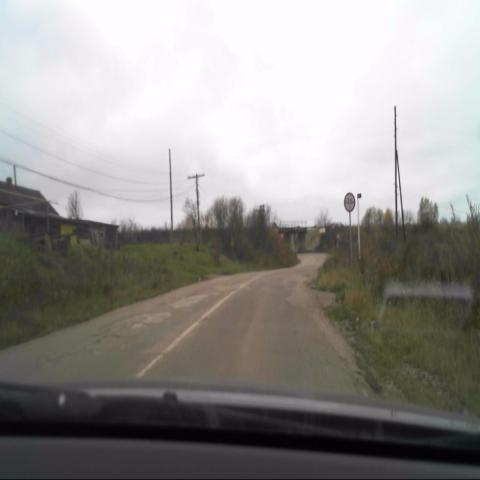3_14: (343, 192, 356, 213)
